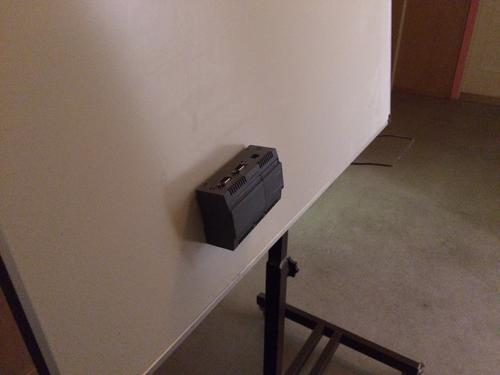iot2000: (194, 143, 284, 252)
